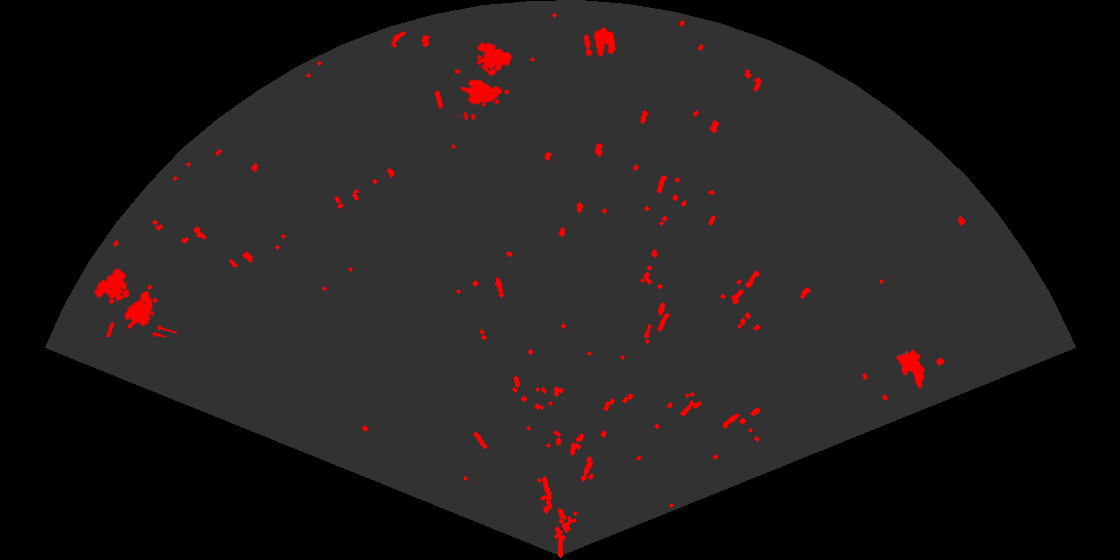AUV: (895, 348, 926, 390)
ball: (582, 26, 617, 58)
cage: (92, 267, 177, 337), (455, 40, 514, 120)
